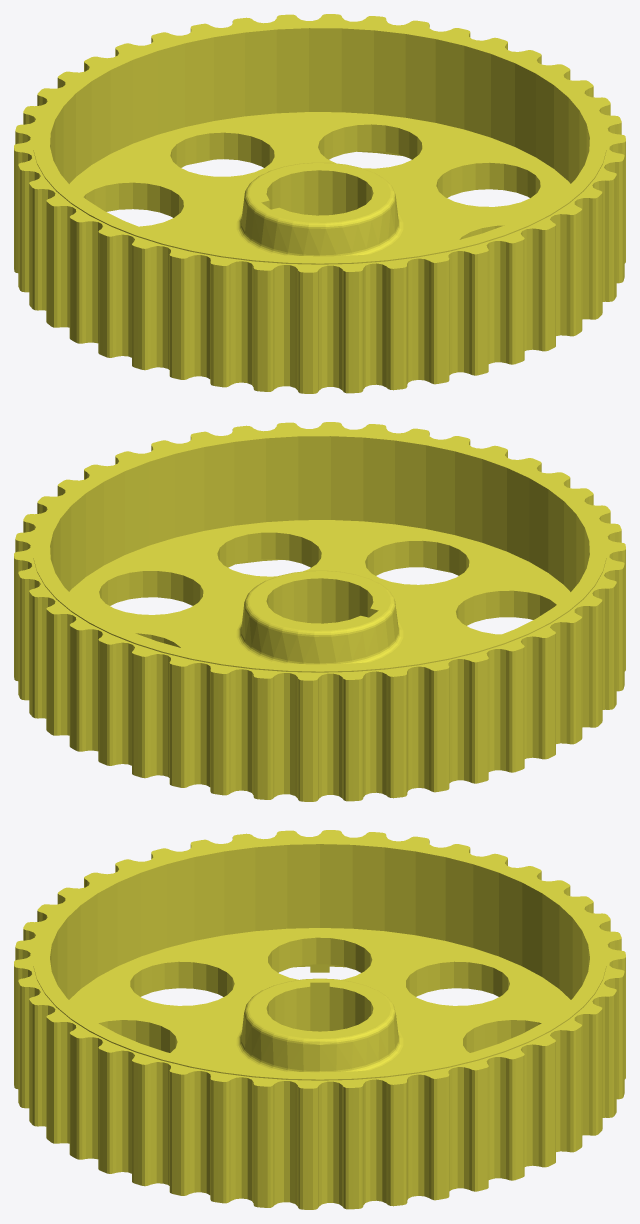
The model's file is Шестеренка.glb.
The picture shows the model from 3 angles, top to bottom: view 1: azimuth 30°, elevation 25°; view 2: azimuth 150°, elevation 25°; view 3: azimuth 270°, elevation 25°; orthographic projection.
Parts seen in each view (by area): view 1: Двигатель.043; view 2: Двигатель.043; view 3: Двигатель.043.
Part boxes in pixels (x1,y1,x2,y2): Двигатель.043: [14, 14, 625, 393]; Двигатель.043: [14, 422, 625, 801]; Двигатель.043: [14, 830, 625, 1209].
Size of the model in its own units: 126 by 29.5 by 126.
